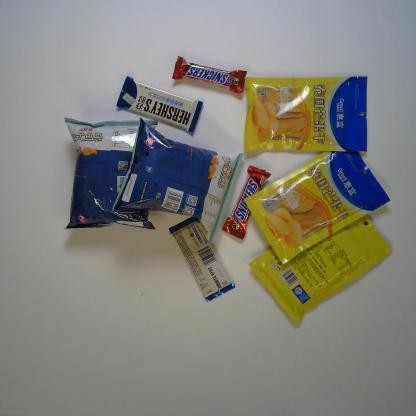Chocolate: (168, 216, 236, 303), (116, 76, 204, 134), (221, 165, 271, 240), (172, 55, 248, 95)
Dried Fruit: (244, 143, 391, 265), (248, 210, 393, 326), (244, 76, 367, 152)
Puffed Food: (111, 117, 245, 244), (64, 116, 158, 231)
